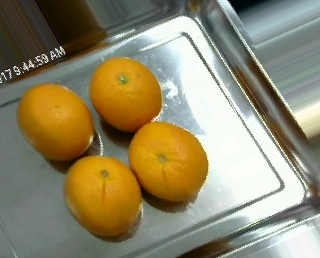Orange: (129, 122, 208, 202), (63, 156, 140, 237), (16, 82, 93, 162), (91, 56, 162, 132)
